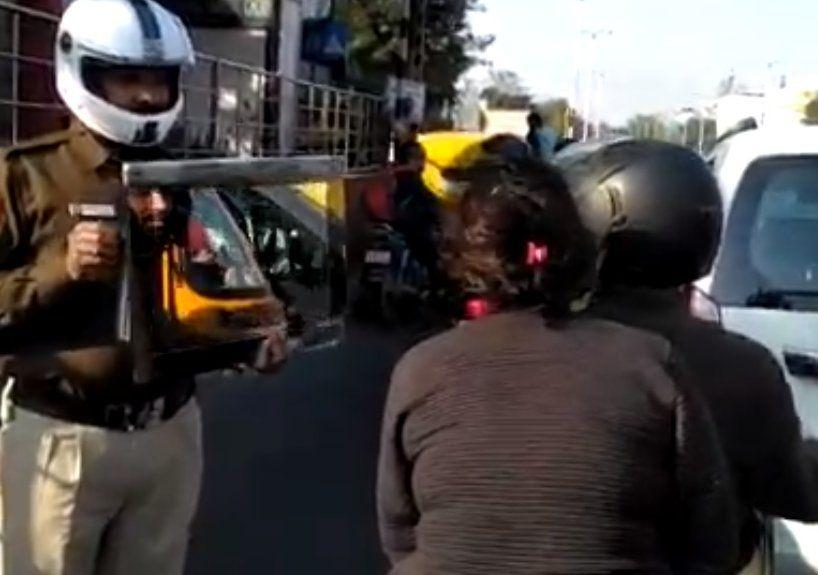helmet: (542, 119, 731, 333)
nohelmet: (432, 146, 582, 327)
